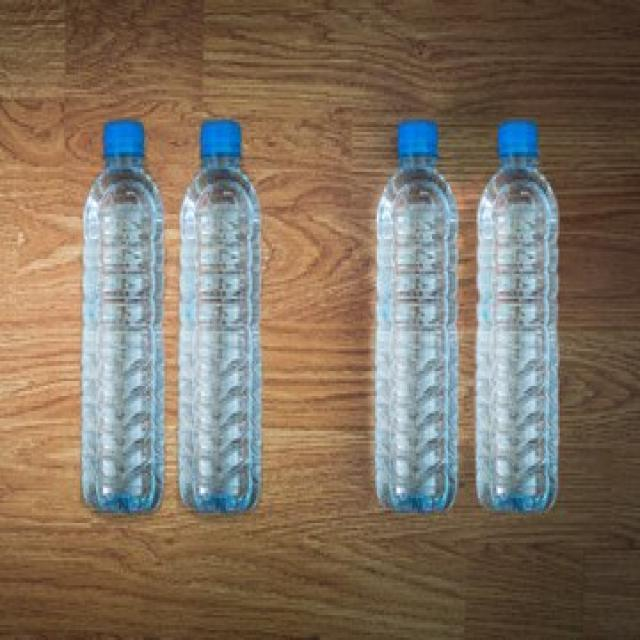plastic_bottle: (460, 92, 576, 516), (173, 77, 263, 522), (378, 106, 466, 501), (96, 108, 160, 538)
